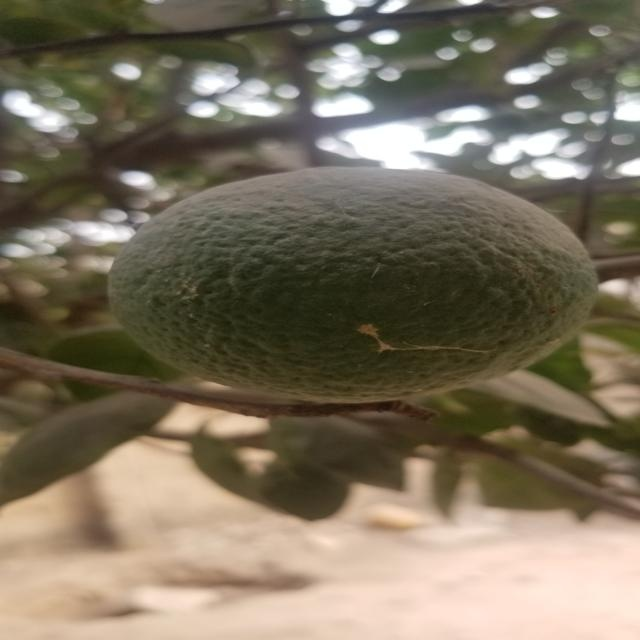agrume: (98, 170, 607, 405)
